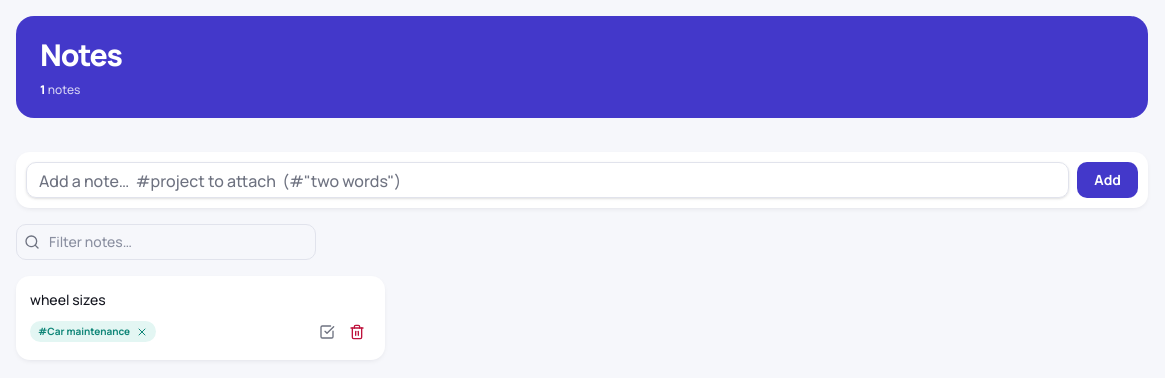
it: changing a note's project › detaches from the chip without opening an editor
Click the button named "Detach from Car maintenance". click: (145, 332)
box: [134,322,156,340]
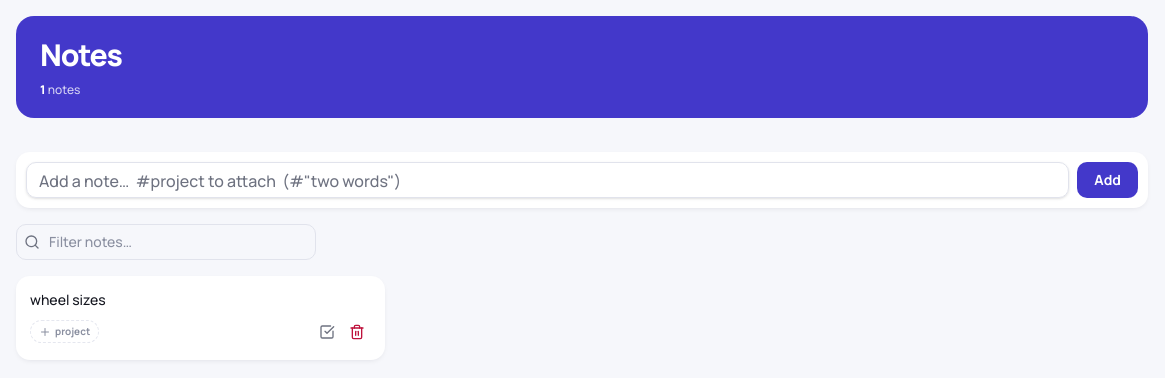
Result: the button "project" is shown at [30,320,99,343]
